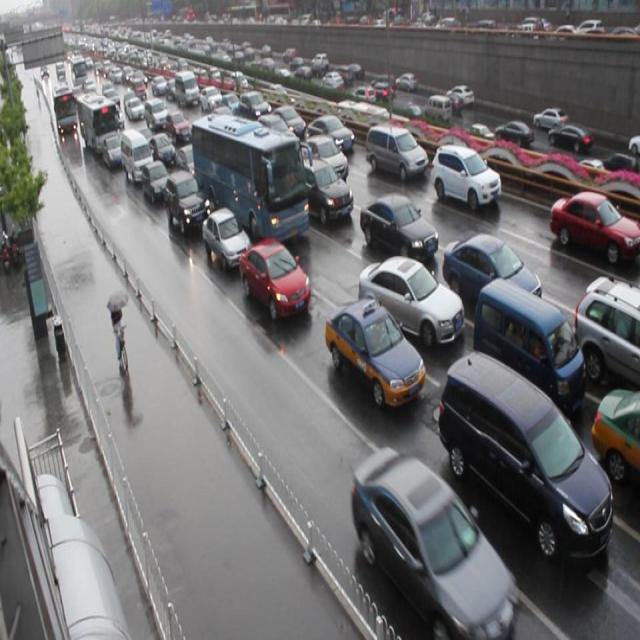car: (349, 445, 515, 640), (323, 297, 422, 406), (355, 256, 463, 346), (570, 276, 640, 388), (439, 232, 538, 308), (548, 190, 640, 264), (237, 239, 308, 318), (586, 388, 640, 486), (358, 193, 434, 262), (429, 145, 500, 211), (298, 156, 351, 226), (199, 208, 250, 270), (163, 170, 208, 231), (299, 134, 345, 182), (306, 114, 351, 158), (266, 104, 302, 144), (140, 158, 170, 204), (174, 144, 205, 185), (146, 133, 174, 166)
truck: (435, 352, 610, 562), (470, 278, 582, 408), (364, 124, 426, 182)
van: (190, 112, 306, 242)
